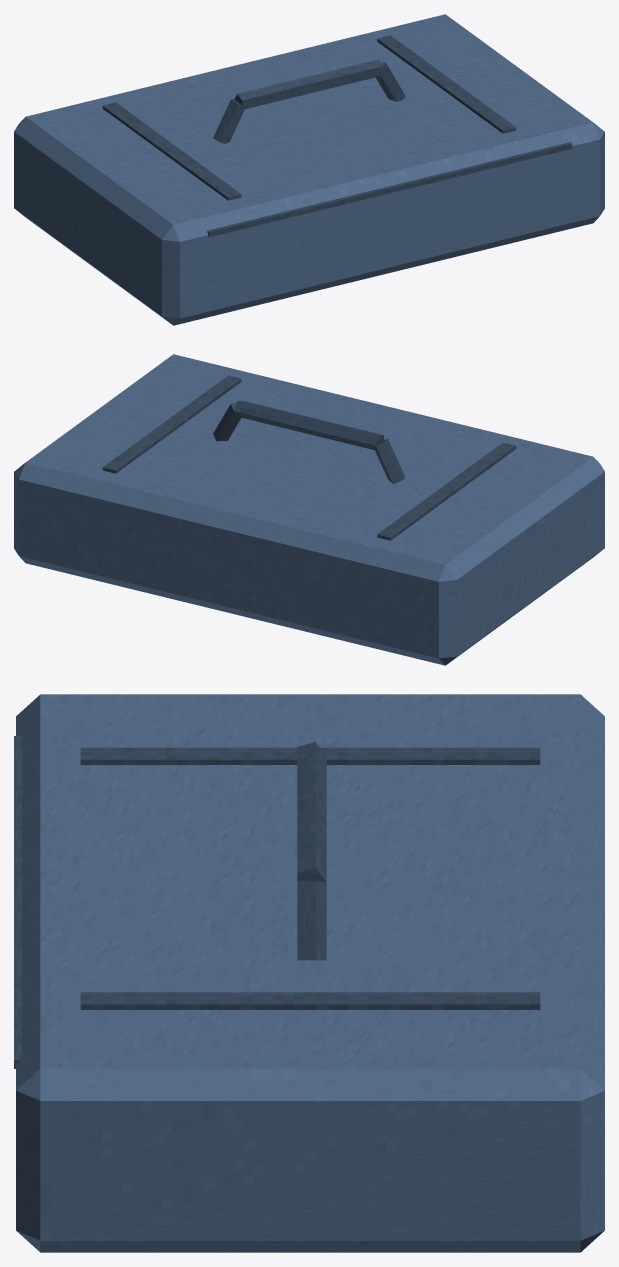
File: briefcase.glb
3 renders of one model, top to bottom at view 1: azimuth 30°, elevation 25°; view 2: azimuth 150°, elevation 25°; view 3: azimuth 270°, elevation 25°, orthographic. The views are drawn at different scales.
Parts seen in each view (by area): view 1: block_bag body, block_zipper or closure, block_carry handle 1, block_webbing -0.1426, block_webbing 0.1426, block_carry handle 0, block_carry handle 2; view 2: block_bag body, block_carry handle 1, block_webbing -0.1426, block_webbing 0.1426, block_carry handle 0, block_carry handle 2; view 3: block_bag body, block_webbing 0.1426, block_webbing -0.1426, block_carry handle 1, block_zipper or closure, block_carry handle 2.
Boxes of the visible parts, bbox=[...] form: block_bag body: bbox=[14, 14, 604, 325]; block_zipper or closure: bbox=[207, 142, 572, 237]; block_carry handle 1: bbox=[234, 59, 383, 109]; block_webbing -0.1426: bbox=[102, 102, 241, 200]; block_webbing 0.1426: bbox=[377, 35, 516, 133]; block_carry handle 0: bbox=[213, 99, 245, 143]; block_carry handle 2: bbox=[376, 62, 405, 101]; block_bag body: bbox=[14, 354, 604, 665]; block_carry handle 1: bbox=[234, 400, 383, 449]; block_webbing -0.1426: bbox=[377, 442, 516, 540]; block_webbing 0.1426: bbox=[102, 375, 241, 473]; block_carry handle 0: bbox=[374, 439, 405, 484]; block_carry handle 2: bbox=[213, 402, 241, 441]; block_bag body: bbox=[16, 694, 604, 1252]; block_webbing 0.1426: bbox=[80, 992, 540, 1009]; block_webbing -0.1426: bbox=[80, 747, 540, 764]; block_carry handle 1: bbox=[297, 741, 326, 881]; block_zipper or closure: bbox=[14, 736, 21, 1068]; block_carry handle 2: bbox=[297, 881, 326, 960].
Bounding box in the file's own units: 0.46 × 0.1416 × 0.291.
Materials: 1 (1 with a texture image).
